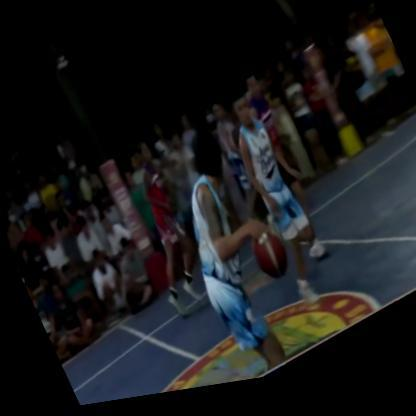basketball: (245, 231, 297, 301)
